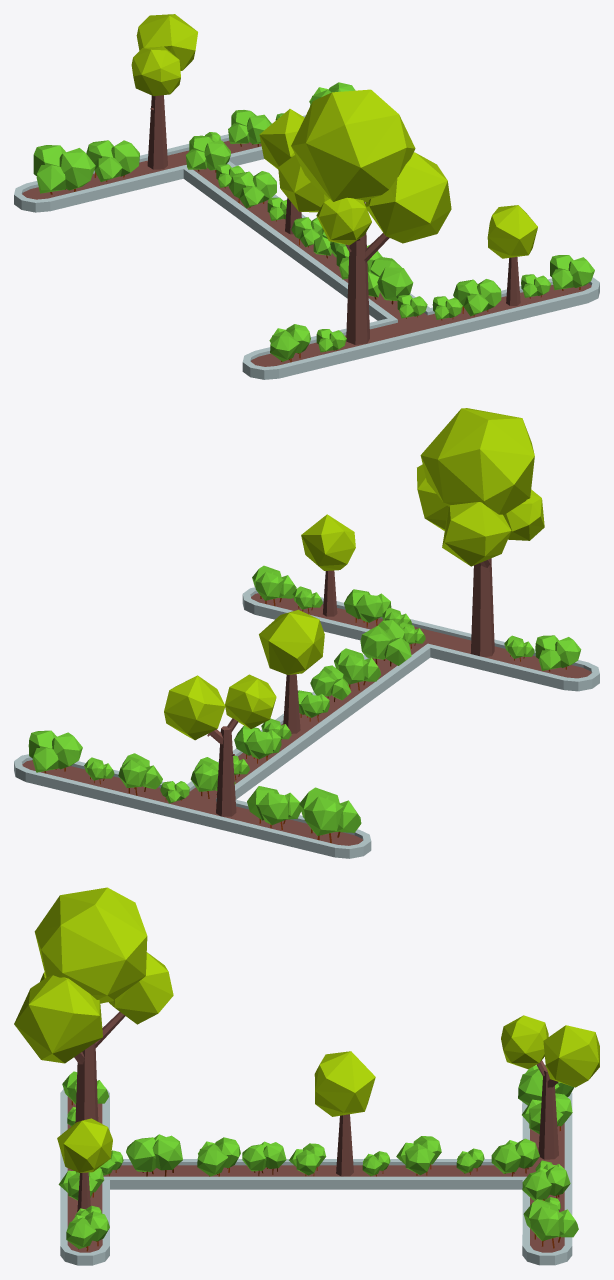
Rendered from ParkingBay3.fbx.
The picture shows the model from 3 angles, top to bottom: view 1: azimuth 30°, elevation 25°; view 2: azimuth 150°, elevation 25°; view 3: azimuth 270°, elevation 25°; orthographic projection.
Parts seen in each view (by area): view 1: Cube.024, Icosphere.050, Cylinder.139, Icosphere.051, Cylinder.141, Cylinder.140, Icosphere.056, Icosphere.053, Cylinder.138, Icosphere.062, Icosphere.049, Icosphere.061 (+12 smaller); view 2: Cube.024, Icosphere.050, Cylinder.139, Cylinder.138, Icosphere.049, Cylinder.141, Icosphere.056, Cylinder.140, Icosphere.057, Icosphere.061, Icosphere.062, Icosphere.053 (+10 smaller); view 3: Cube.024, Icosphere.050, Cylinder.139, Icosphere.051, Cylinder.138, Cylinder.141, Icosphere.049, Cylinder.140, Icosphere.061, Icosphere.057, Icosphere.059, Icosphere.071 (+11 smaller).
Part boxes in pixels (x1,y1,x2,y2): Cube.024: [14, 115, 599, 379]; Icosphere.050: [291, 89, 415, 201]; Cylinder.139: [131, 14, 197, 169]; Icosphere.051: [365, 152, 451, 243]; Cylinder.141: [487, 205, 537, 305]; Cylinder.140: [345, 202, 389, 344]; Icosphere.056: [33, 145, 95, 194]; Icosphere.053: [316, 197, 371, 245]; Cylinder.138: [259, 109, 304, 234]; Icosphere.062: [86, 140, 139, 181]; Icosphere.049: [278, 155, 329, 212]; Icosphere.061: [367, 257, 413, 304]; Cube.024: [14, 587, 599, 858]; Icosphere.050: [420, 408, 534, 515]; Cylinder.139: [164, 674, 276, 816]; Cylinder.138: [259, 609, 324, 733]; Icosphere.049: [442, 502, 511, 566]; Cylinder.141: [301, 514, 355, 616]; Icosphere.056: [299, 787, 361, 843]; Cylinder.140: [470, 558, 494, 657]; Icosphere.057: [28, 730, 82, 773]; Icosphere.061: [360, 620, 411, 666]; Icosphere.062: [247, 786, 301, 829]; Icosphere.053: [503, 489, 544, 540]; Cube.024: [60, 1087, 572, 1265]; Icosphere.050: [34, 887, 147, 1003]; Cylinder.139: [501, 1015, 599, 1159]; Icosphere.051: [14, 975, 102, 1063]; Cylinder.138: [314, 1051, 375, 1176]; Cylinder.141: [57, 1118, 112, 1211]; Icosphere.049: [108, 952, 173, 1024]; Cylinder.140: [74, 1011, 125, 1122]; Icosphere.061: [126, 1134, 182, 1176]; Icosphere.057: [523, 1199, 578, 1248]; Icosphere.059: [491, 1138, 539, 1176]; Icosphere.071: [197, 1137, 240, 1176].
Size of the model in its own units: 1638 by 1121 by 2352.
